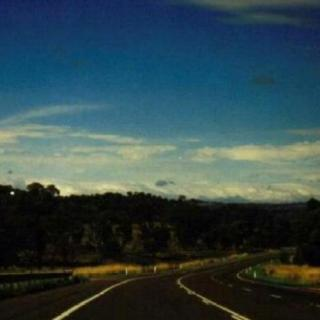Stratocumulus: (3, 0, 320, 199)
